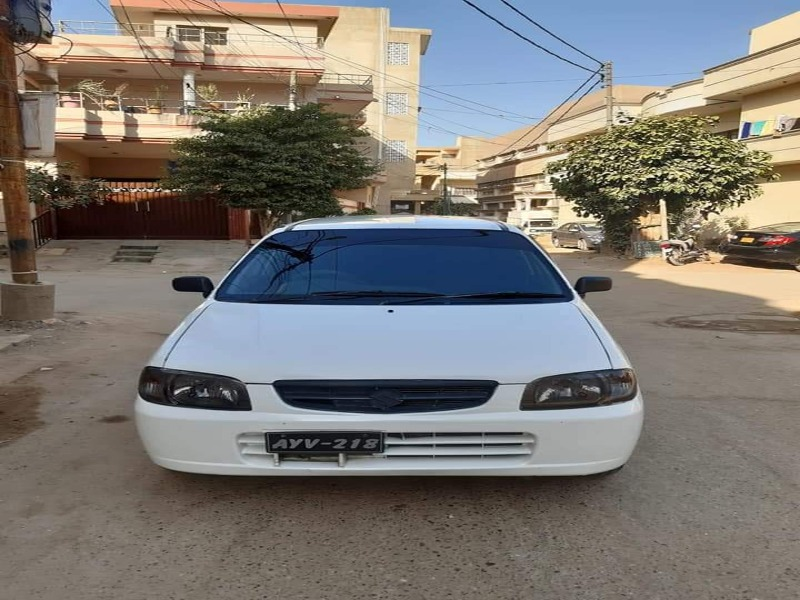License Plate: (263, 427, 391, 460)
